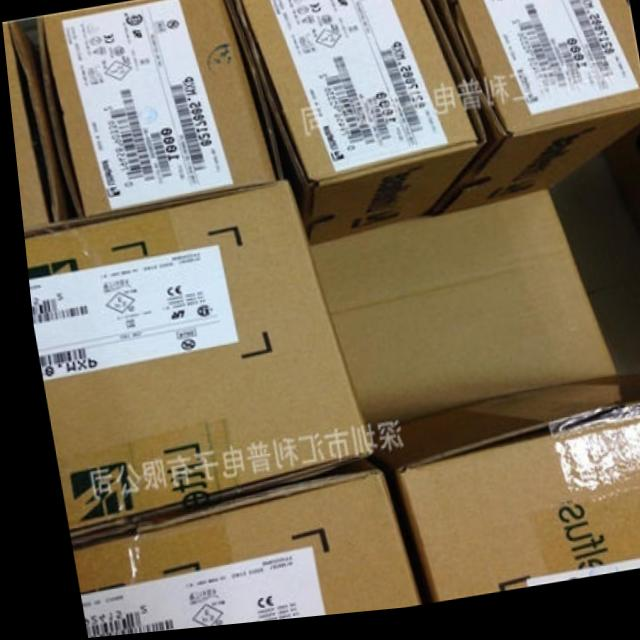box: (19, 183, 363, 537), (302, 196, 608, 434), (356, 383, 640, 608), (232, 0, 485, 248), (60, 475, 406, 638), (37, 0, 280, 220), (425, 0, 640, 224), (2, 22, 52, 227)
